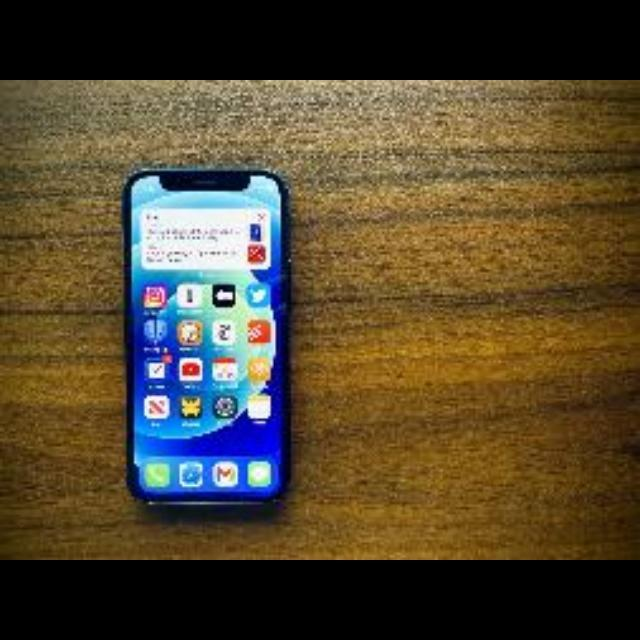Phone: (119, 162, 291, 520)
